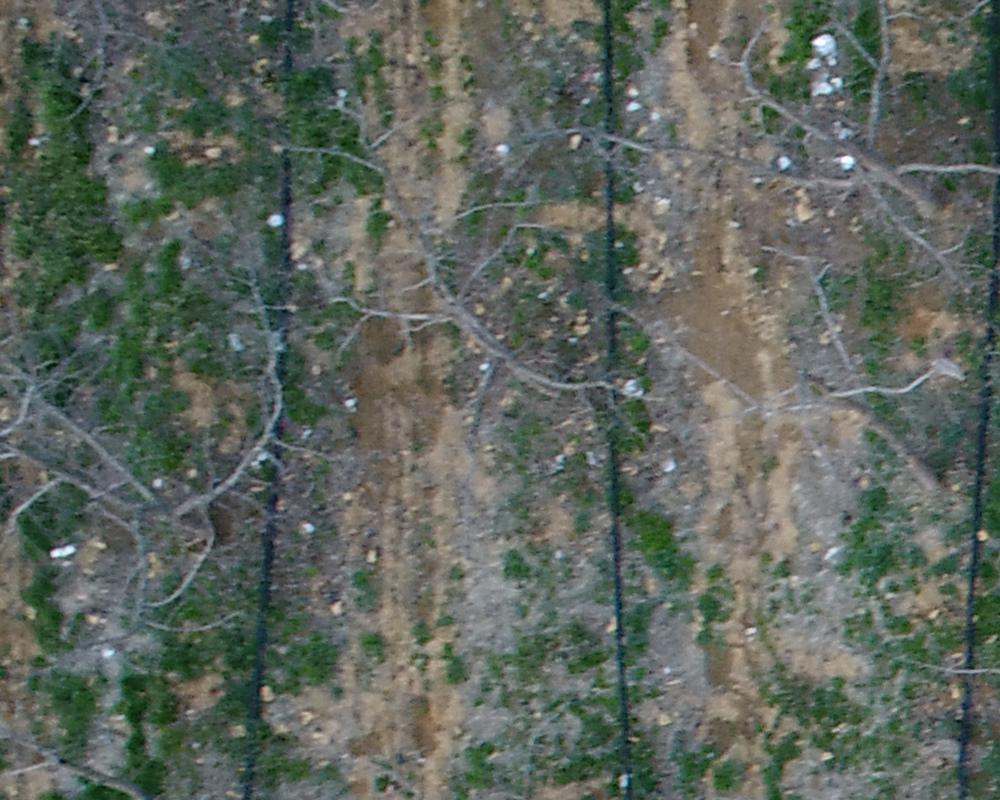apple: (270, 85, 664, 449), (511, 13, 990, 287), (602, 244, 987, 535), (10, 317, 308, 619)
